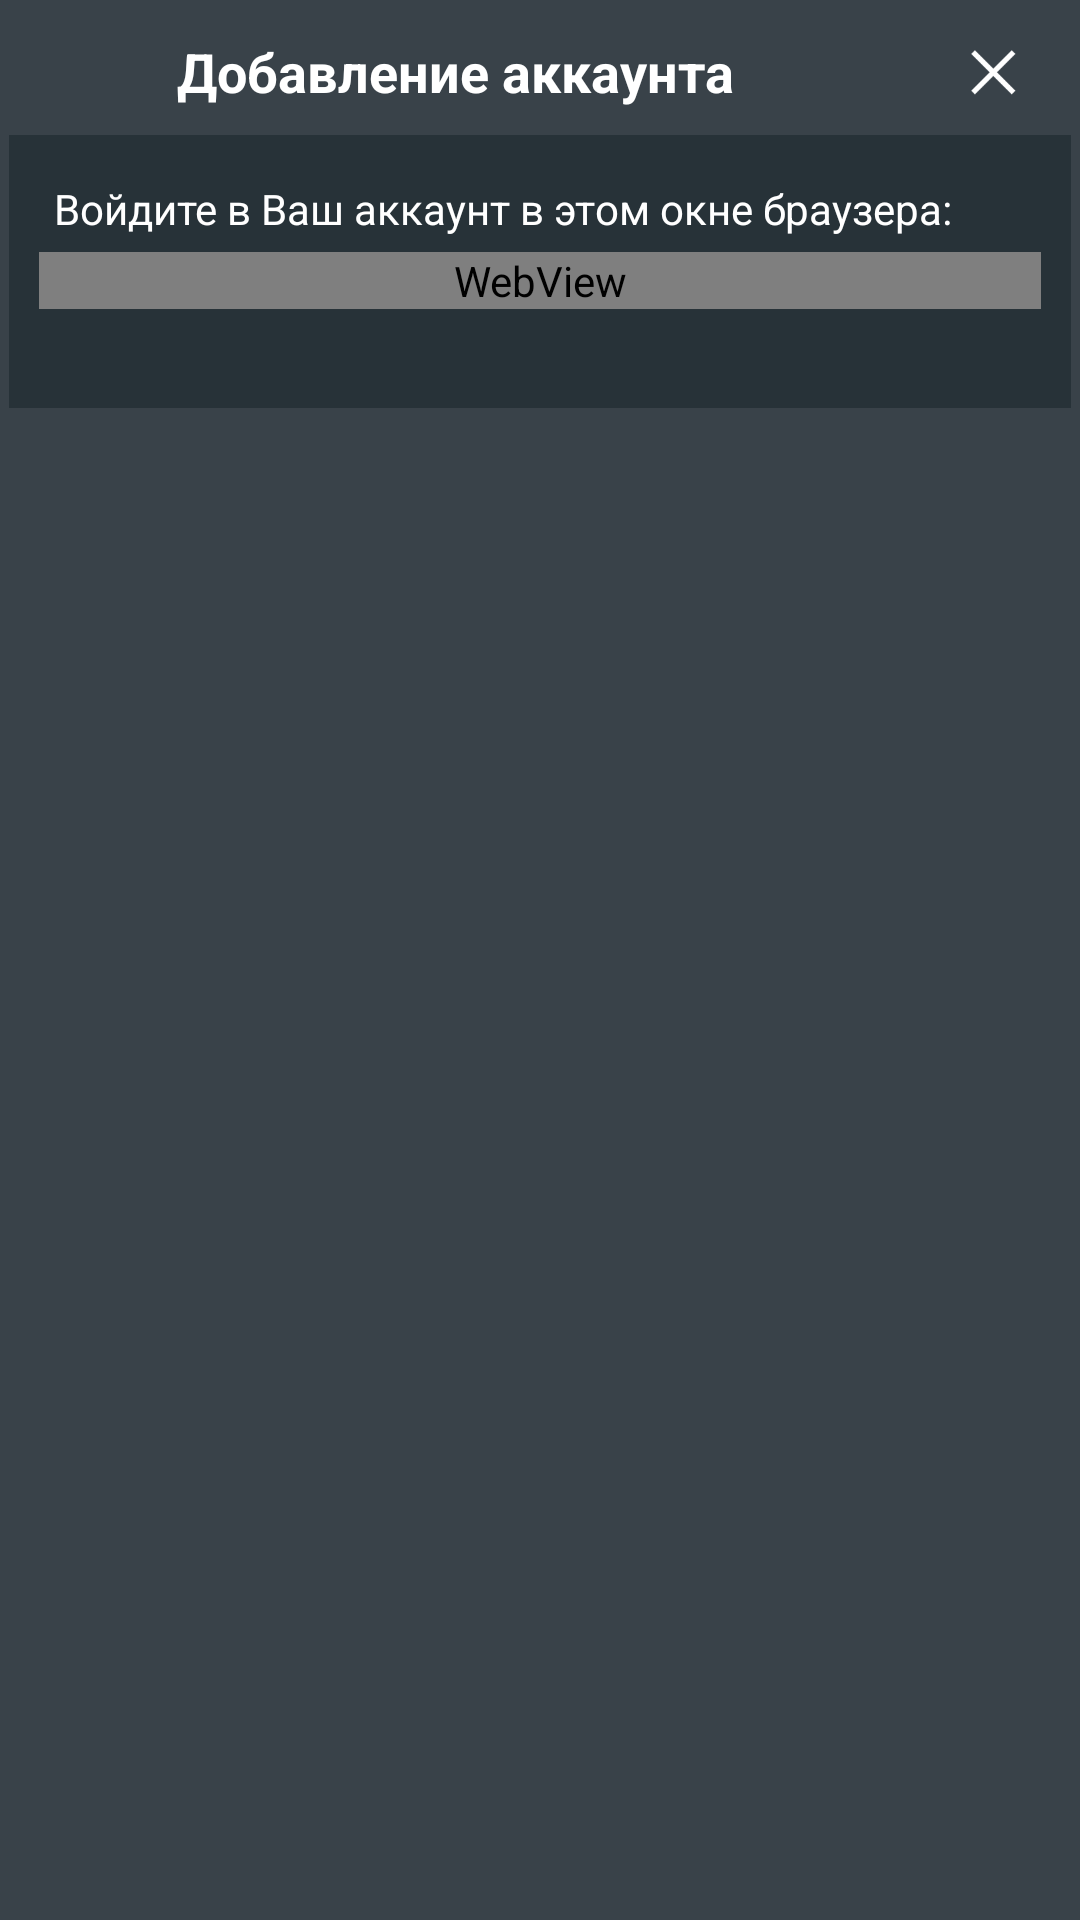

Named icons in this screenshot (1080 x 1920) and their centers, (x=x, y=y):
cross: (x=993, y=72)
